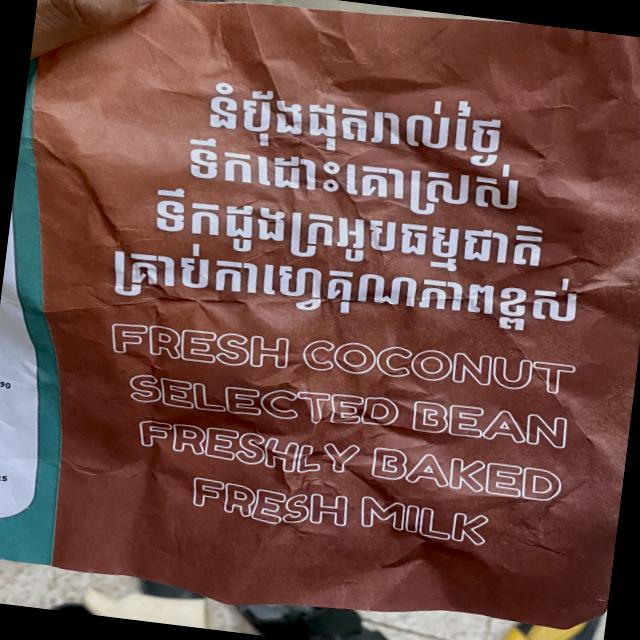Yolov11_80vkh: (101, 233, 605, 342), (138, 181, 566, 283), (191, 66, 541, 174), (169, 134, 548, 231)
